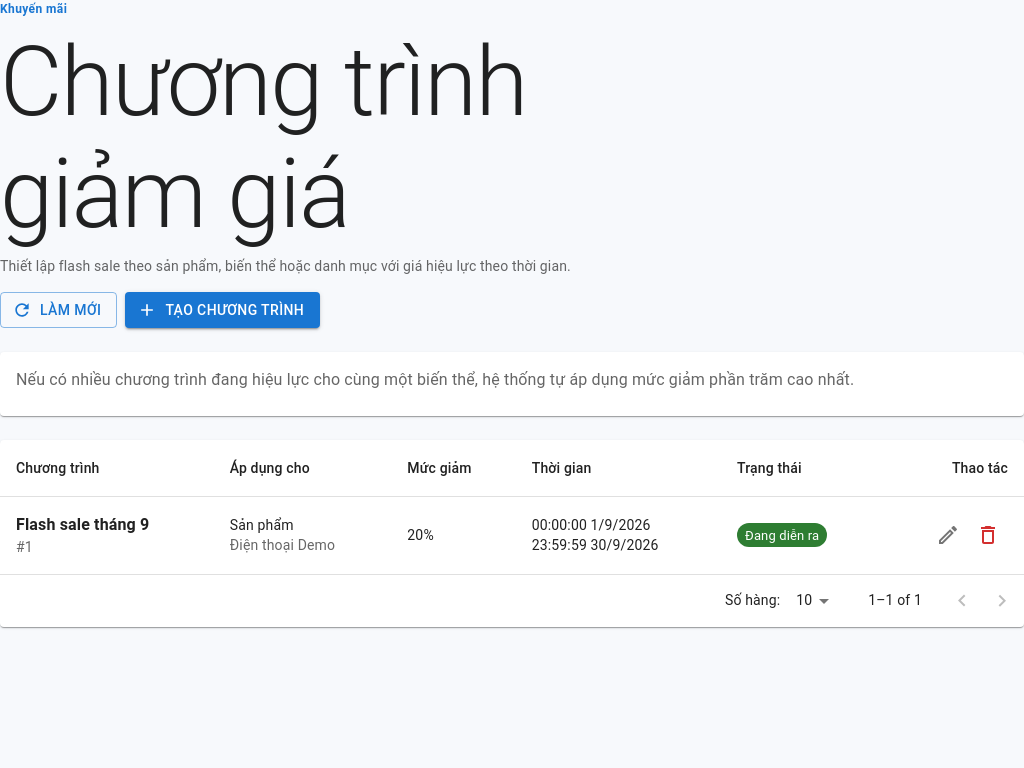
US-12.3: AdminPromotionsPage › loads the matching category selector when category scope is selected
Expected: the text "Flash sale tháng 9" is shown, [16,516,149,534]
Click the button "Tạo chương trình".
click(223, 310)  # box [126,292,320,328]
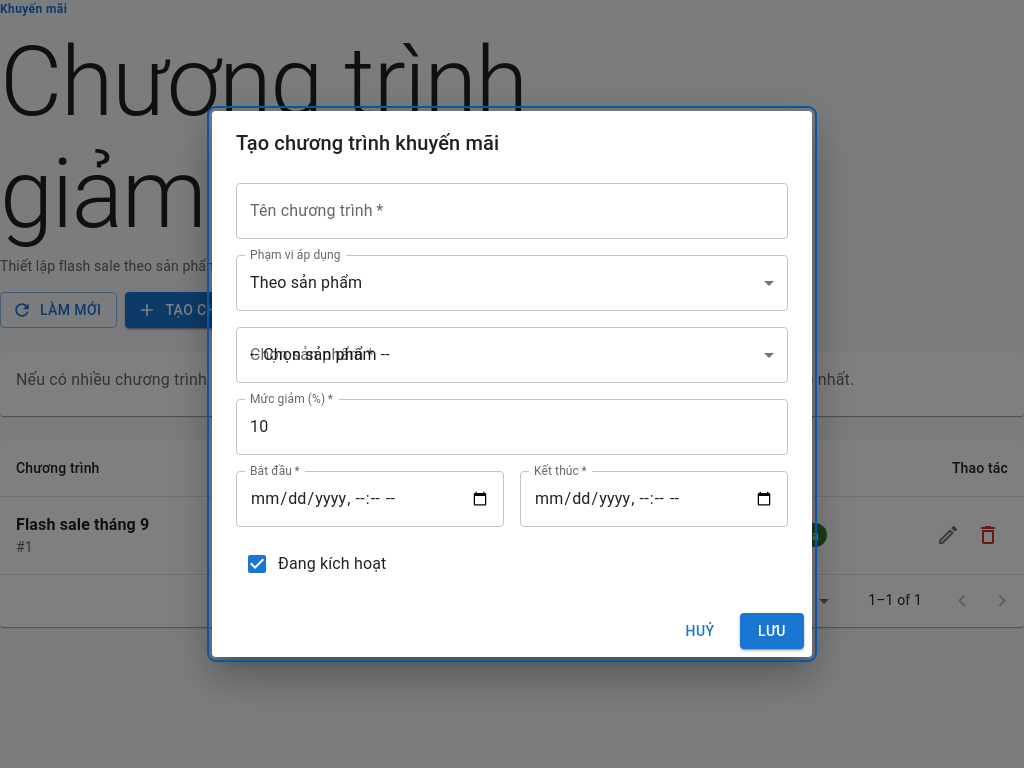
Select "Theo danh mục" in the dropdown labelled "Phạm vi áp dụng" at (512, 283), box [236,255,788,311]
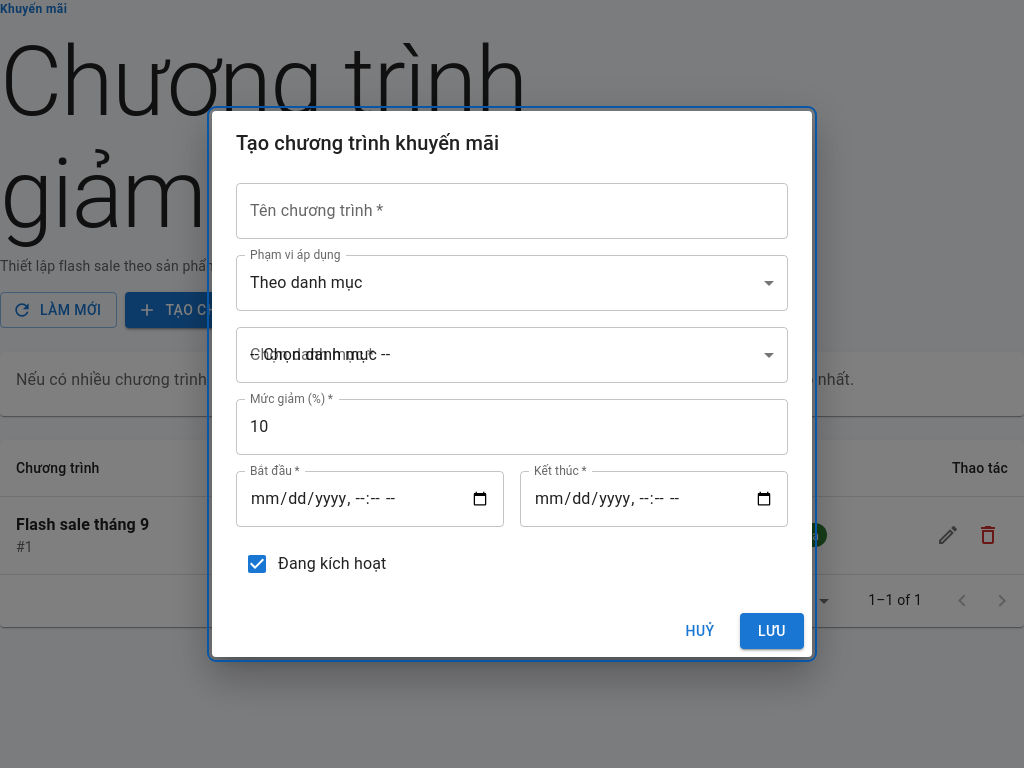
Expected: the dropdown labelled "Chọn danh mục" is shown, [236,327,788,383]
Expected: the label "Chọn sản phẩm" is gone
